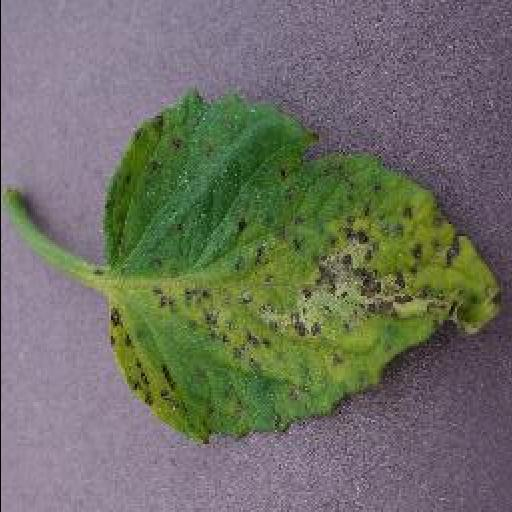disease_tomato: (99, 95, 501, 444)
